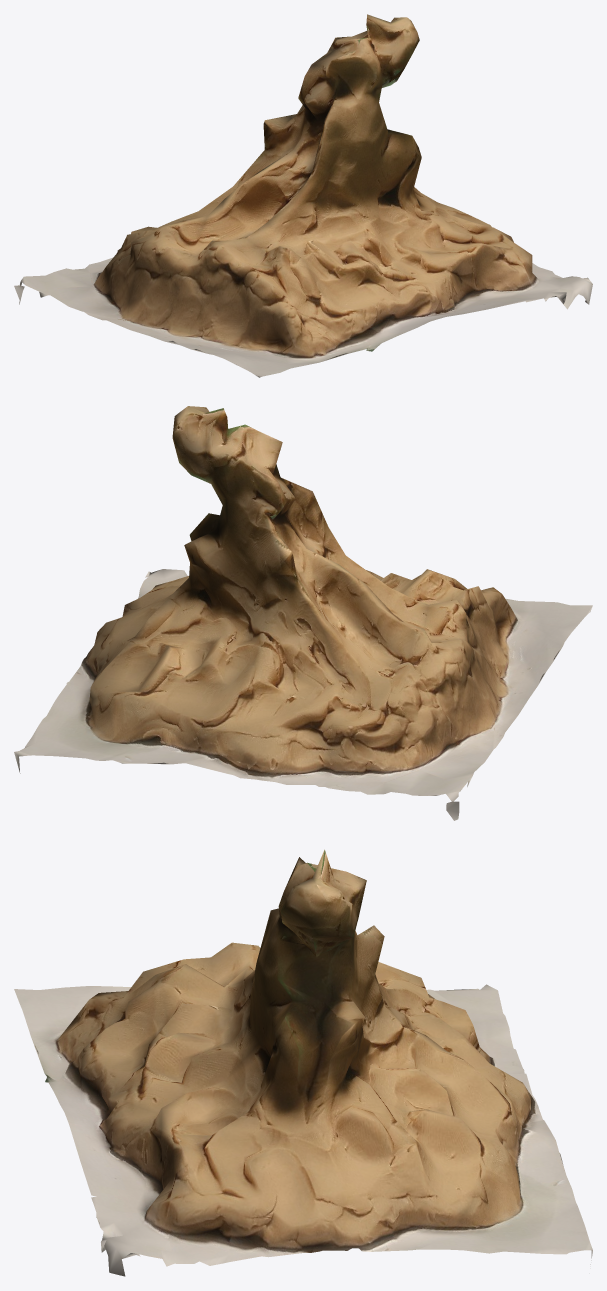
The model's file is GPGre_MamanLOD14.fbx.
The picture shows the model from 3 angles, top to bottom: view 1: azimuth 30°, elevation 25°; view 2: azimuth 150°, elevation 25°; view 3: azimuth 270°, elevation 25°; orthographic projection. The views are drawn at different scales.
Visible parts, largest first — view 1: Model; view 2: Model; view 3: Model.
Boxes of the visible parts, x1,y1,x2,y2 form: Model: (14,14,592,377); Model: (14,406,592,820); Model: (14,849,592,1276).
Bounding box in the file's own units: 2.37 × 1.51 × 2.14.
